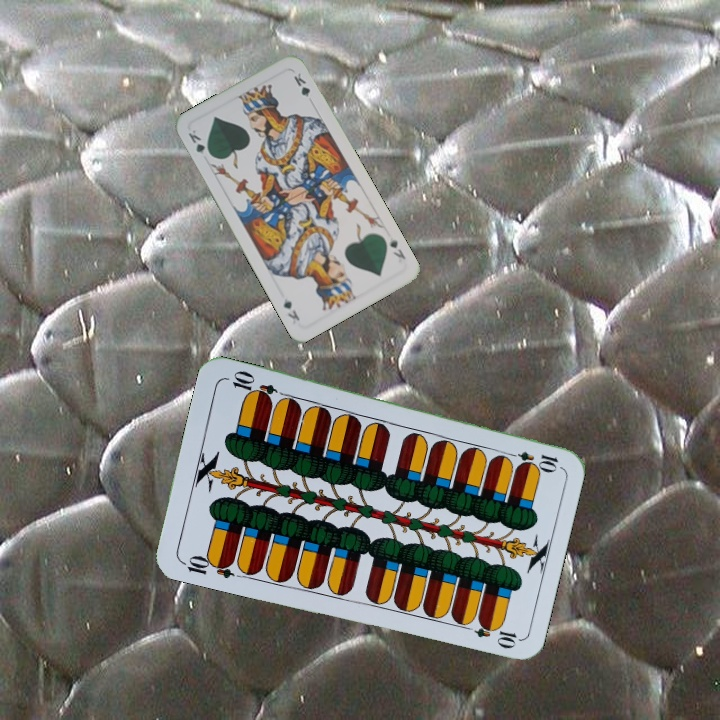E10: (177, 551, 237, 581), (502, 447, 561, 472)
GK: (184, 125, 214, 160), (385, 233, 408, 262)
